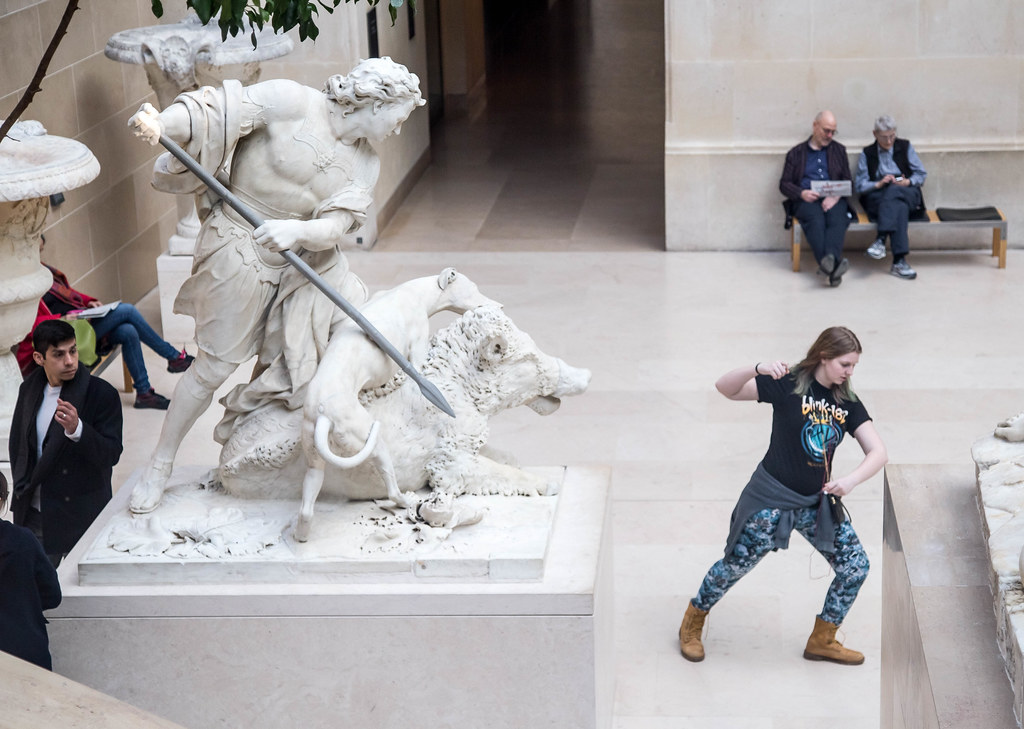person: (664, 322, 893, 672), (5, 317, 128, 569), (34, 229, 198, 415), (774, 100, 863, 292), (848, 111, 936, 285)
person-like: (120, 49, 436, 521)
